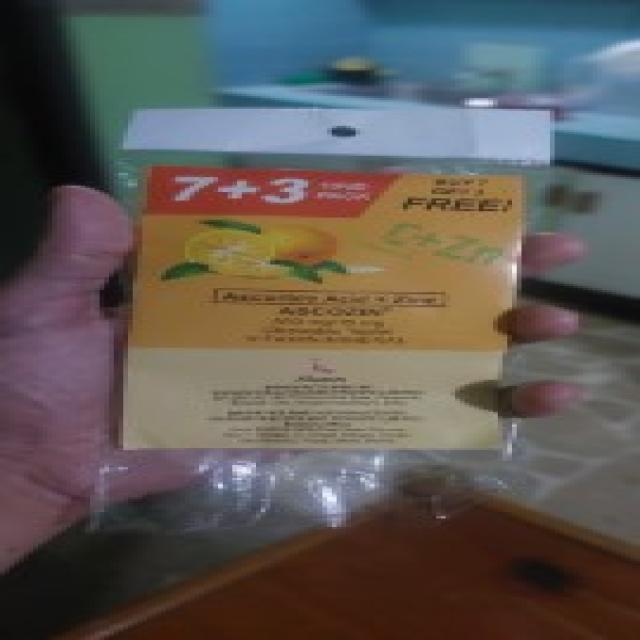Cacat: (119, 108, 540, 527)
